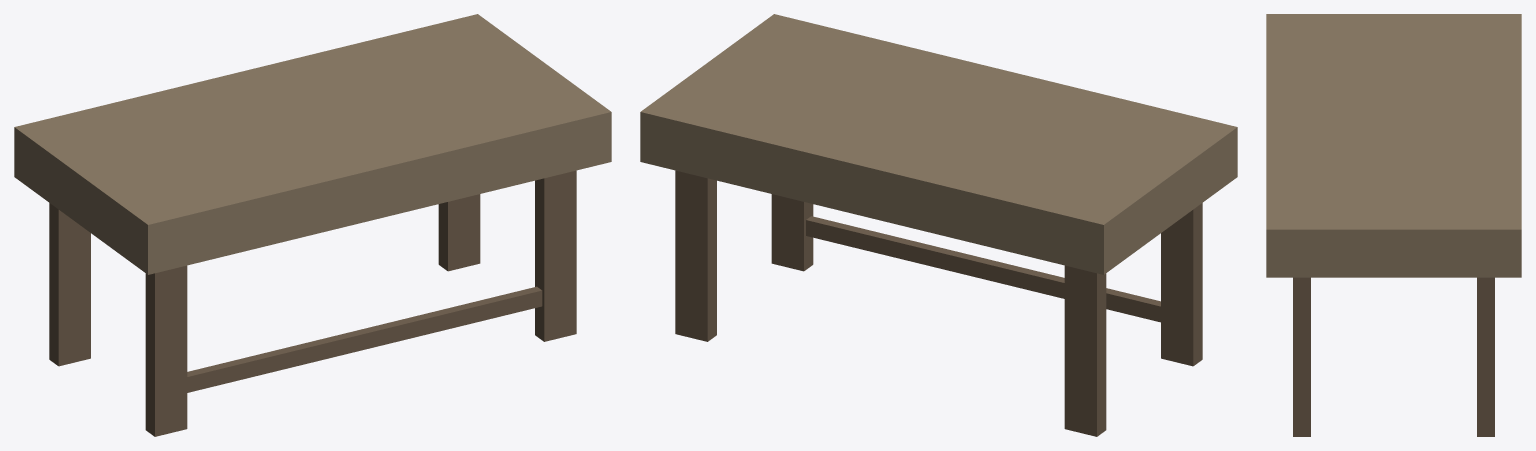
Rendered from butcher_block.glb.
3 views of the same model, side by side, from view 1: azimuth 30°, elevation 25°; view 2: azimuth 150°, elevation 25°; view 3: azimuth 270°, elevation 25° (orthographic). The views are drawn at different scales.
Parts seen in each view (by area): view 1: butcher_block; view 2: butcher_block; view 3: butcher_block.
Part boxes in pixels (<box>): butcher_block: <box>14,14,611,436</box>; butcher_block: <box>640,14,1237,436</box>; butcher_block: <box>1266,14,1521,436</box>.
Size of the model in its own units: 1.92 by 0.9 by 0.96.
